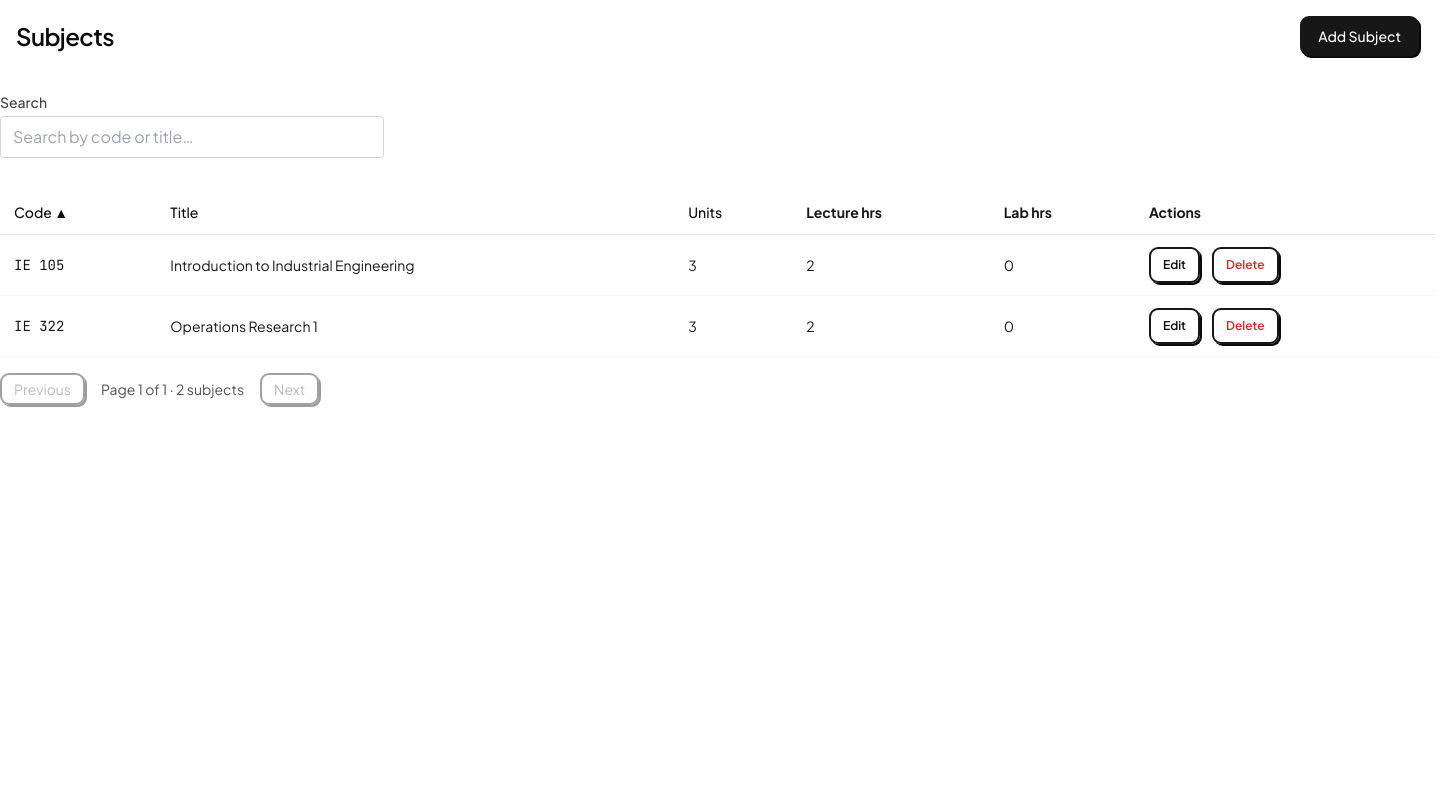
SubjectsPage — delete › asks for confirmation first, then deletes and toasts
The width and height of the screenshot is (1440, 810).
Click the button "Delete" in the row of "IE 105".
click(1245, 265)  # box x1=1212 y1=247 x2=1279 y2=283
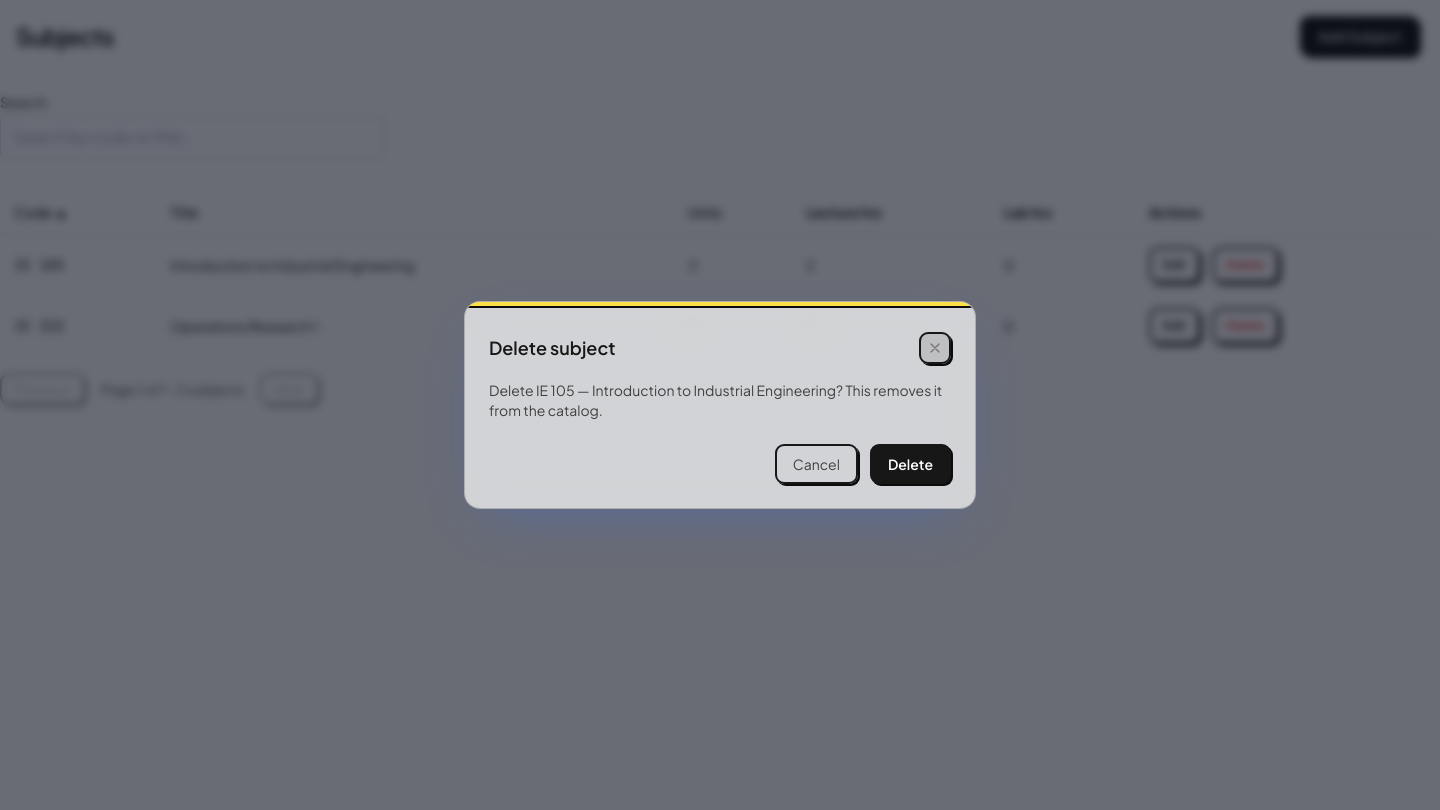
Now the dialog shows "Delete IE 105", box x1=489 y1=381 x2=942 y2=419
Now the dialog shows "This removes it from the catalog.", box x1=489 y1=381 x2=942 y2=419
Click the button "Delete".
click(910, 464)  # box x1=870 y1=444 x2=951 y2=484
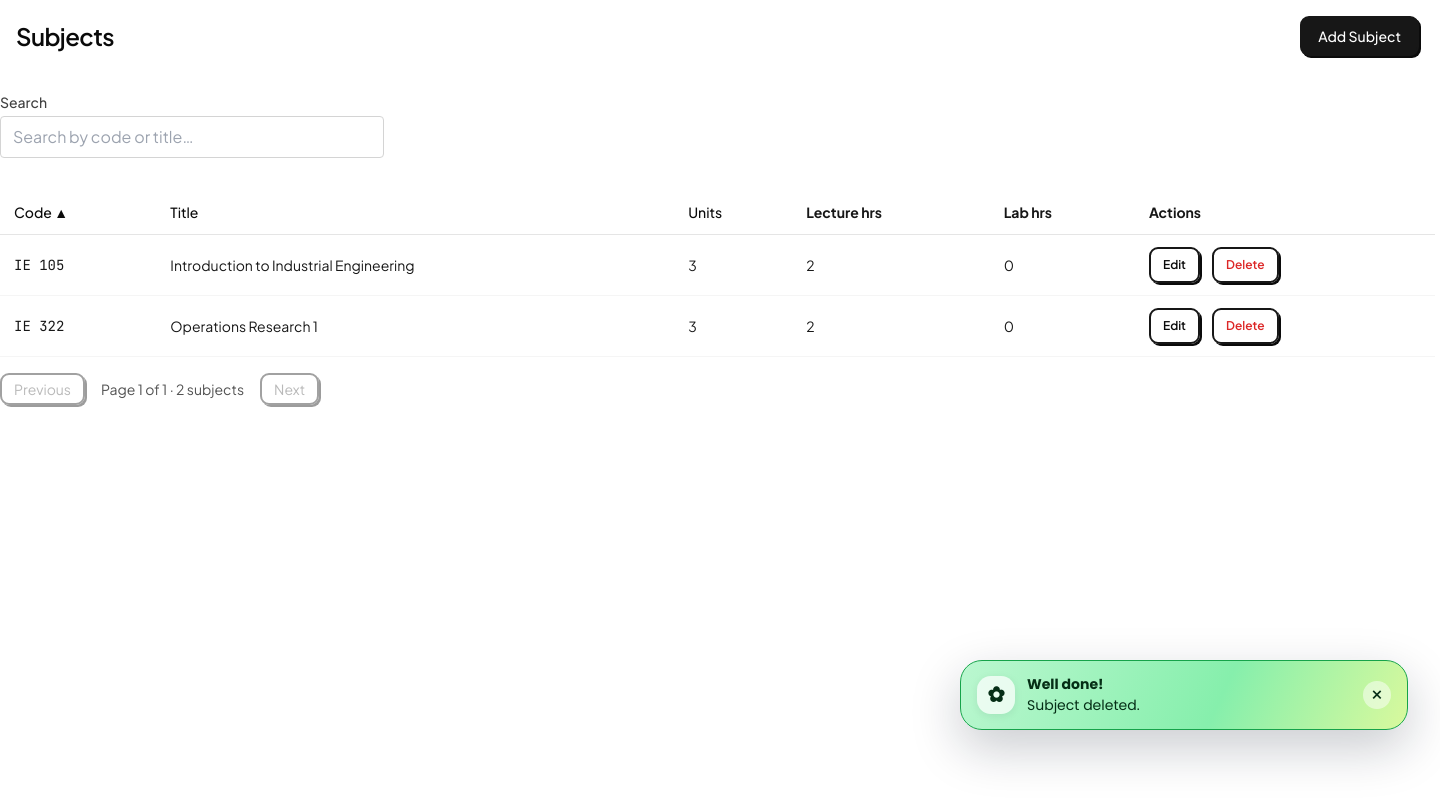
Now the text "Subject deleted." is shown, box x1=1027 y1=695 x2=1140 y2=715
